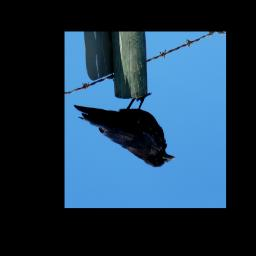Crow: (72, 89, 177, 178)
